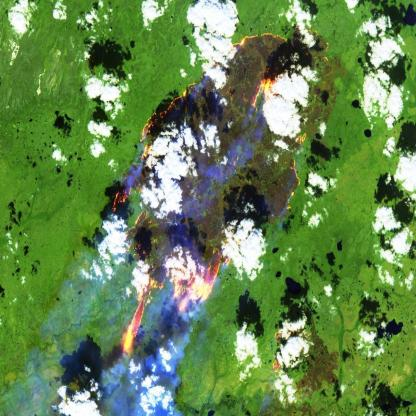fire: (110, 26, 328, 362)
